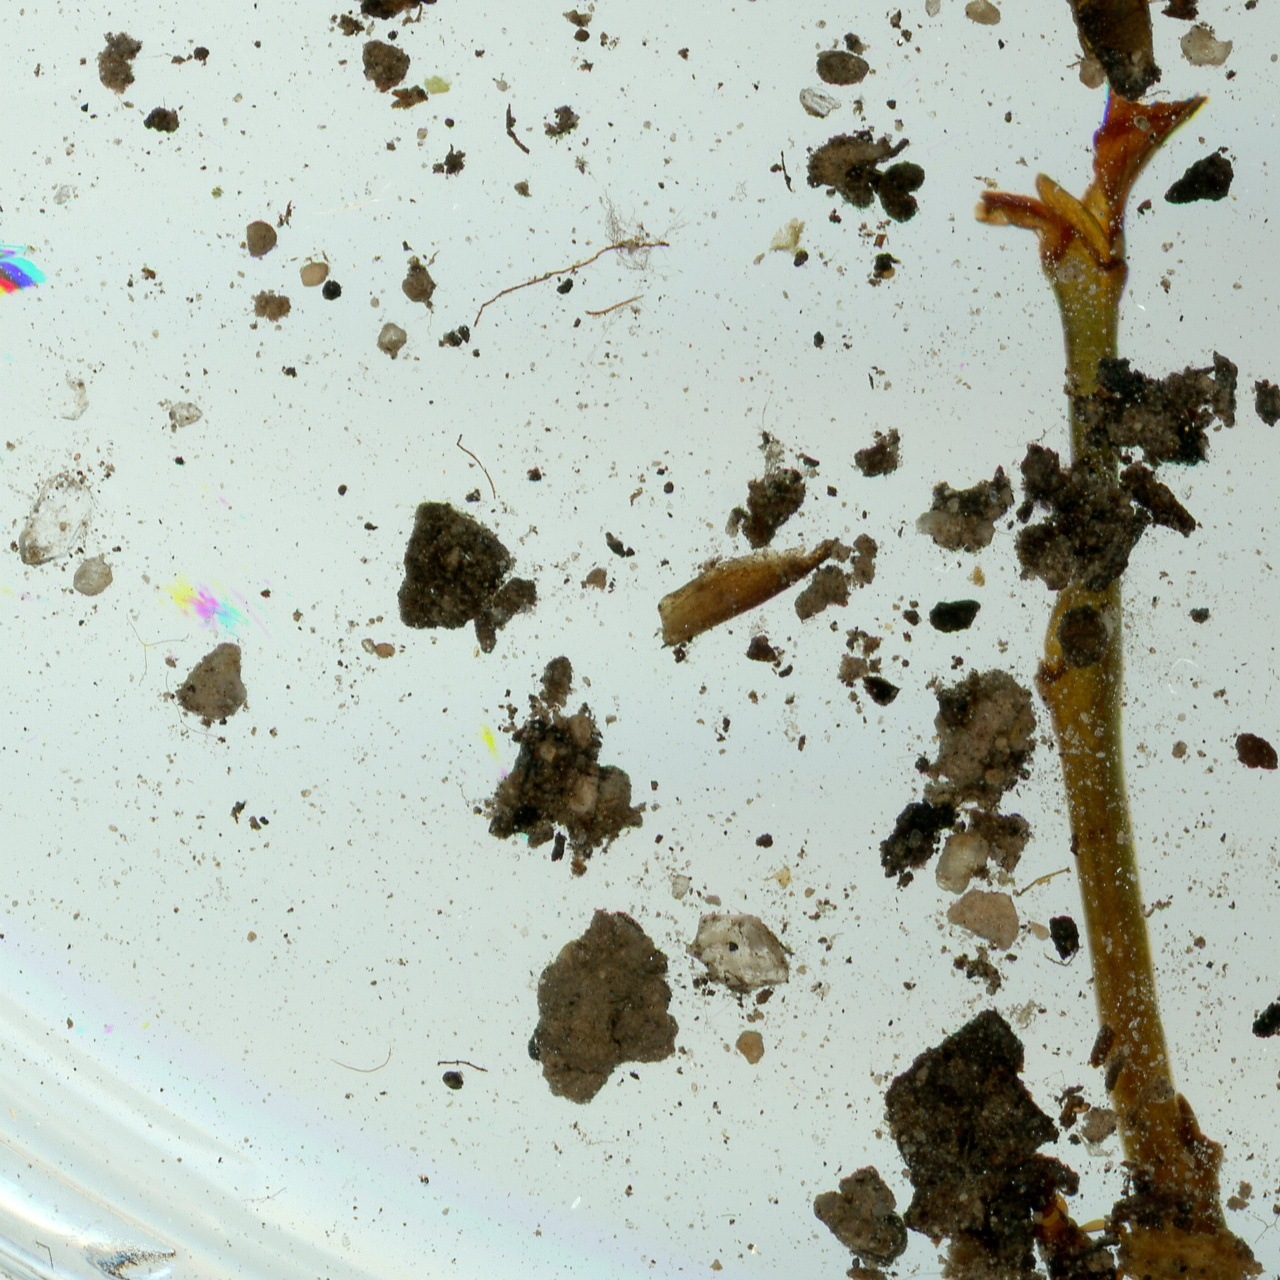arthropod: (1019, 1172, 1184, 1280), (0, 227, 47, 292), (1067, 47, 1103, 95)
